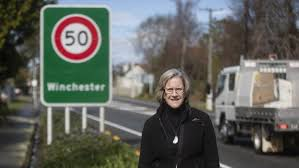sp50: (50, 14, 106, 62)
